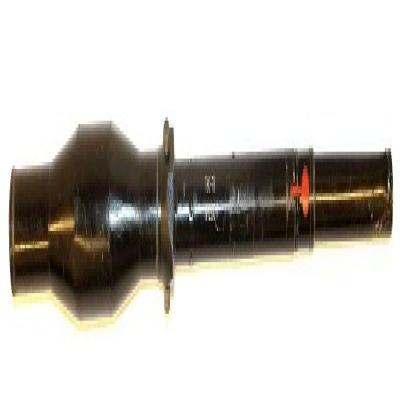weapon: (10, 117, 392, 321)
